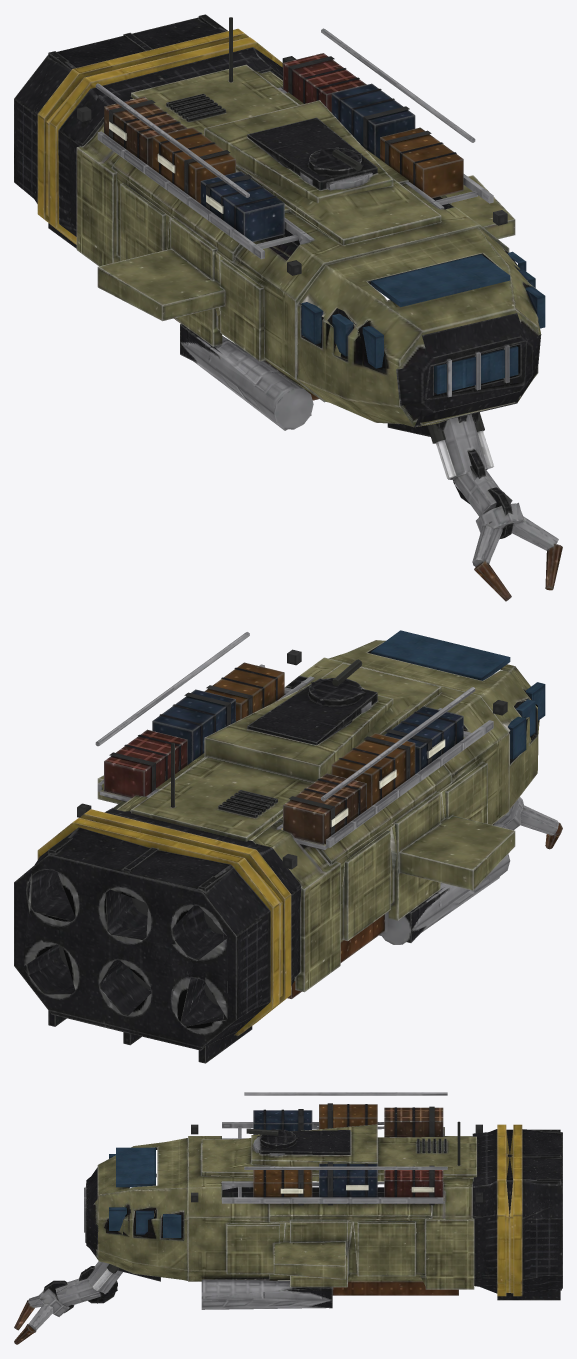
Rendered from sd_ship_yuk.glb.
The picture shows the model from 3 angles, top to bottom: view 1: azimuth 30°, elevation 25°; view 2: azimuth 150°, elevation 25°; view 3: azimuth 270°, elevation 25°; orthographic projection. The views are drawn at different scales.
Visible parts, largest first — view 1: LOD0_body, LOD1_body; view 2: LOD0_body, LOD1_body; view 3: LOD0_body, LOD1_body.
Boxes of the visible parts, x1,y1,x2,y2 form: LOD0_body: (14, 14, 562, 601); LOD1_body: (34, 22, 549, 564); LOD0_body: (14, 630, 562, 1063); LOD1_body: (23, 647, 556, 1050); LOD0_body: (14, 1092, 562, 1344); LOD1_body: (25, 1103, 561, 1332).
Bounding box in the file's own units: 0.5349 × 0.4518 × 1.
Materials: 1 (1 with a texture image).
